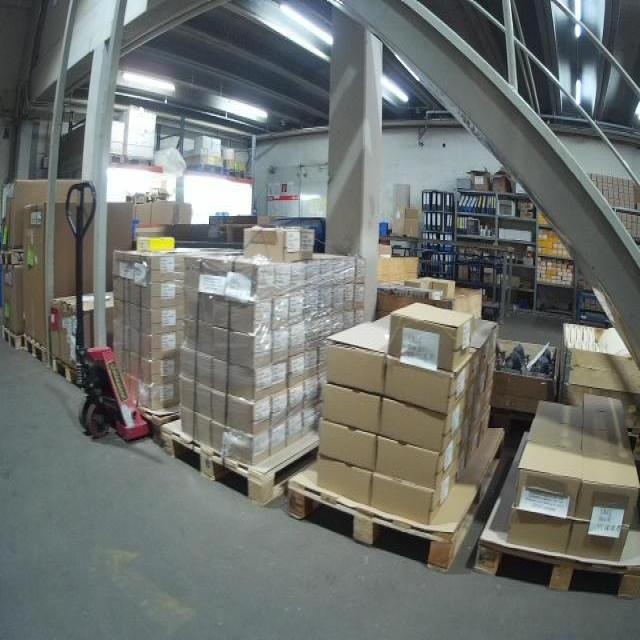pallet: (285, 426, 507, 573), (470, 429, 638, 601), (164, 415, 323, 509), (141, 407, 182, 456), (48, 349, 89, 388), (22, 333, 50, 369), (4, 324, 24, 355), (2, 248, 29, 266)
pallet_truck: (63, 181, 155, 447)
